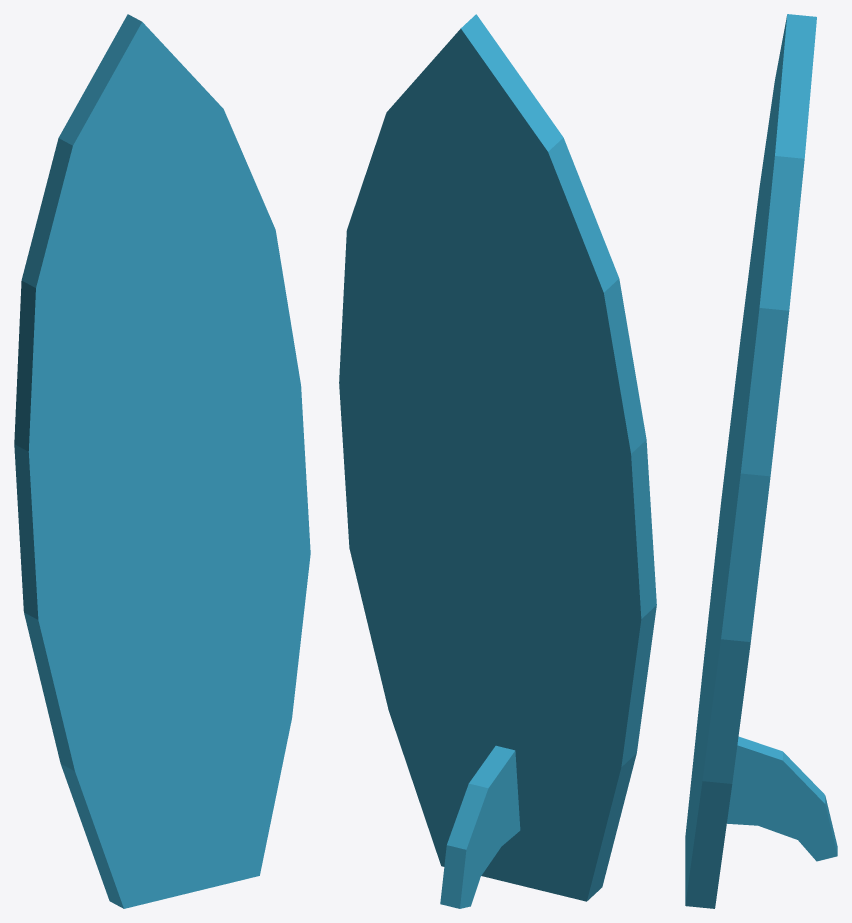
The model's file is Surfboard1_tex.fbx.
The picture shows the model from 3 angles, left to right: view 1: azimuth 30°, elevation 25°; view 2: azimuth 150°, elevation 25°; view 3: azimuth 270°, elevation 25°; orthographic projection. The views are drawn at different scales.
Visible parts, largest first — view 1: Surfboard1_tex; view 2: Surfboard1_tex; view 3: Surfboard1_tex.
Boxes of the visible parts, box(x1,y1,x2,y2) form: Surfboard1_tex: box(14, 14, 310, 908); Surfboard1_tex: box(339, 14, 656, 908); Surfboard1_tex: box(685, 14, 837, 908).
Bounding box in the file's own units: 0.68 × 2 × 0.3207.
